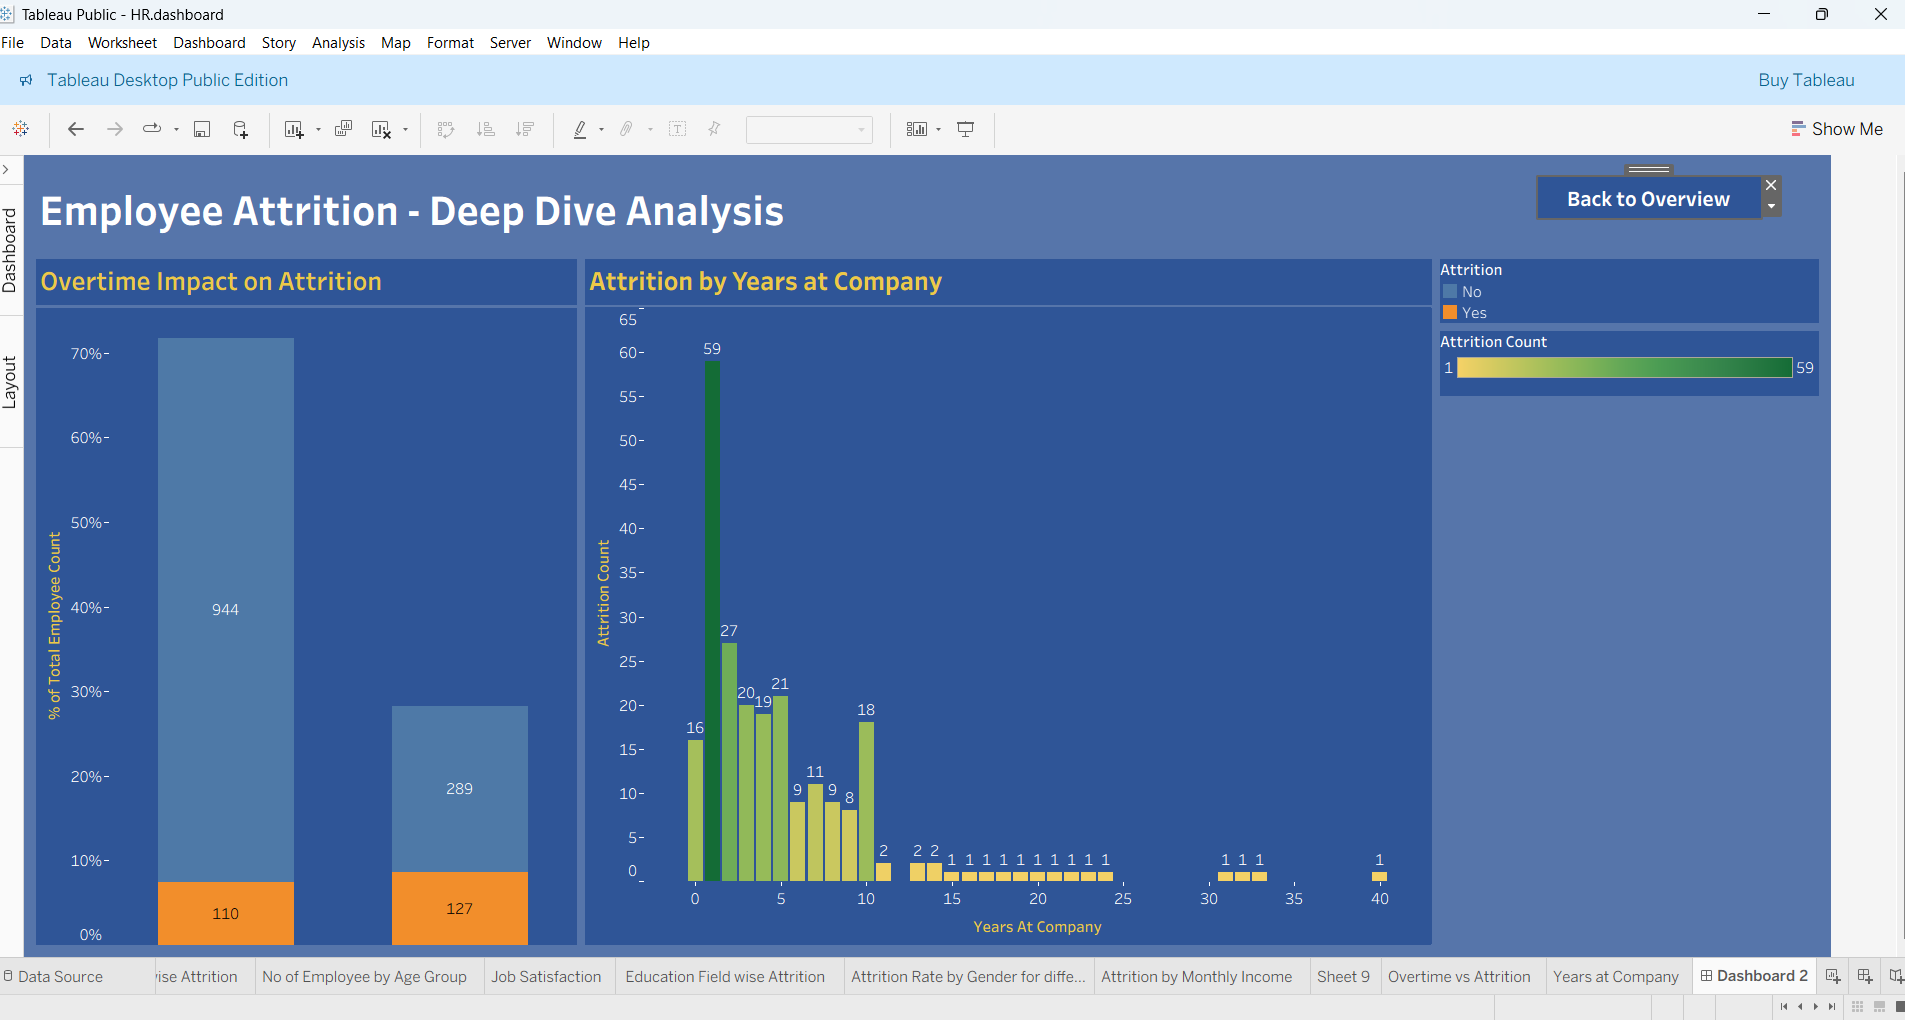

What the dashboard file says about the page in this screenshot:
{"tool":"tableau","page":{"name":"Dashboard 2","canvas":[1000,1000],"units":"permille","ordinal":0},"visuals":[{"type":"text","box":[4.7,10,990.6,114.9]},{"type":"dashboard-object","box":[837.7,27.5,123.6,51.2]},{"type":"worksheet","title":"Overtime vs Attrition","mark":"Bar","rows":["Employee Count"],"cols":["Over Time"],"box":[4.7,124.8,302.7,865.2]},{"type":"worksheet","title":"Years at Company","mark":"Bar","rows":["Calculation_1022039836381184"],"cols":["Years At Company"],"box":[307.4,124.8,471.1,865.2]},{"type":"legend","title":"Overtime vs Attrition","param":"[federated.0xx9k3q1uzgu6d1gkjbsi1bv8oj2].[none:Attrition:nk]","box":[778.5,124.8,216.8,89.9]},{"type":"legend","title":"Years at Company","param":"[federated.0xx9k3q1uzgu6d1gkjbsi1bv8oj2].[sum:Calculation_1022039836381184:qk]","box":[778.5,214.7,216.8,91.1]}]}

Visuals, with their boxes on the dashboard's canvas, which has no fixed pixel size, in thousandths of its width and height (x1, y1, x2, y2). These are canvas units, not pixel positions in the 1905x1020 screenshot, which may show the page scaled, cropped or inside an application window:
text: rect(5, 10, 995, 125)
dashboard-object: rect(838, 28, 961, 79)
"Overtime vs Attrition" worksheet (Bar marks): rect(5, 125, 307, 990)
"Years at Company" worksheet (Bar marks): rect(307, 125, 778, 990)
"Overtime vs Attrition" legend: rect(778, 125, 995, 215)
"Years at Company" legend: rect(778, 215, 995, 306)
